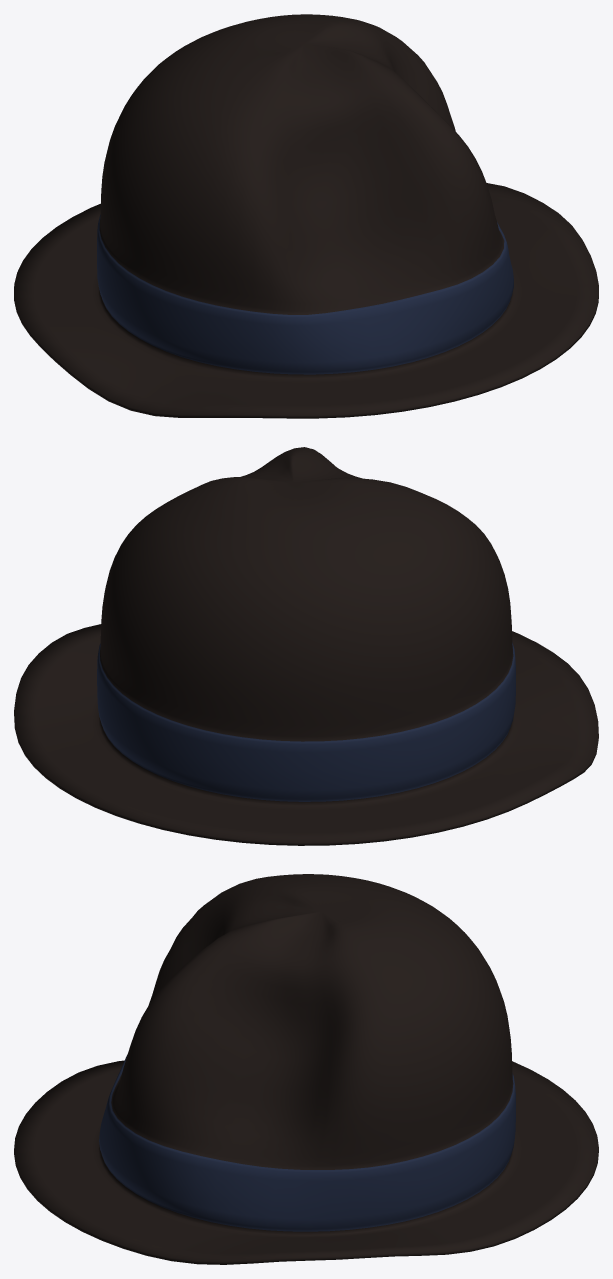
The model's file is hat__sombrero.glb.
The picture shows the model from 3 angles, top to bottom: view 1: azimuth 30°, elevation 25°; view 2: azimuth 150°, elevation 25°; view 3: azimuth 270°, elevation 25°; orthographic projection.
Parts seen in each view (by area): view 1: Hat; view 2: Hat; view 3: Hat.
Boxes of the visible parts, x1,y1,x2,y2 form: Hat: [14, 14, 598, 418]; Hat: [14, 447, 598, 845]; Hat: [14, 874, 598, 1264].
Size of the model in its own units: 0.4039 by 0.2013 by 0.4036.
